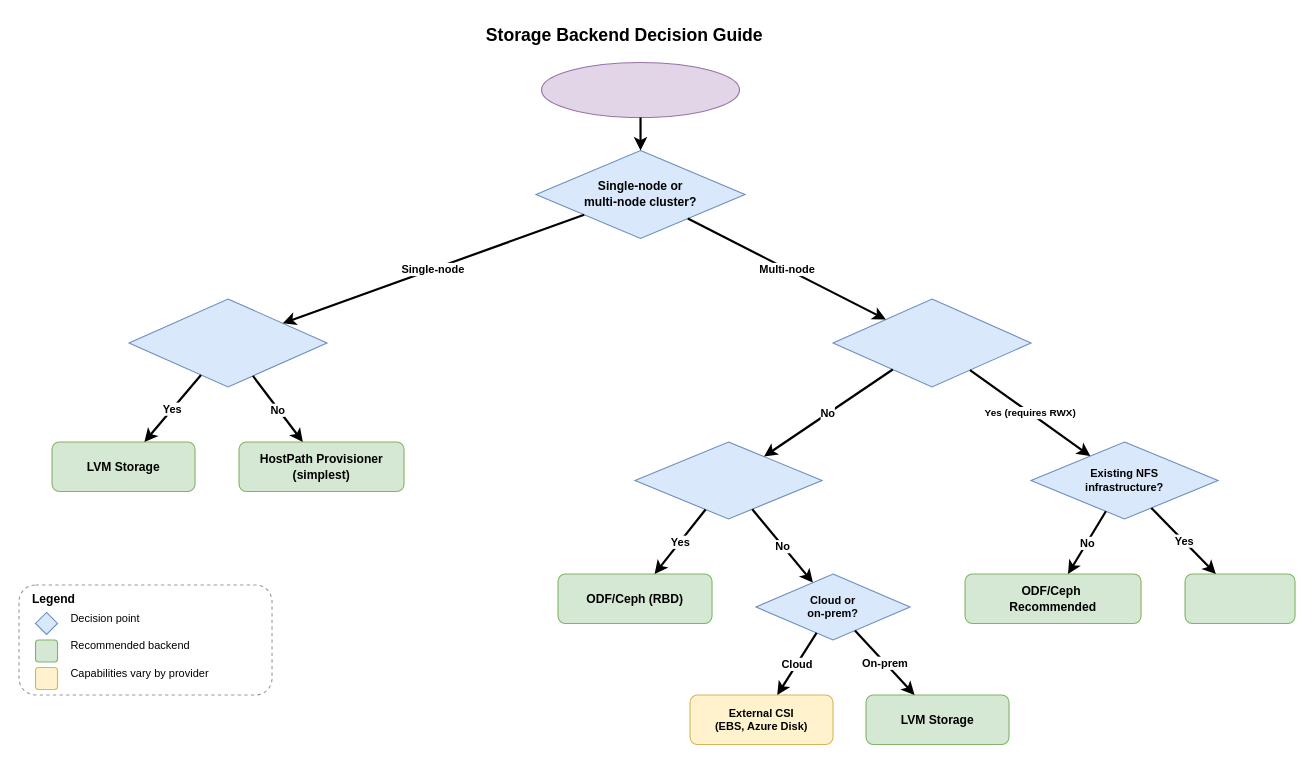
Some shapes in this 1315 by 765 pixel diagram are drawn without their labels. The centre of each missing label's shape, as x and y in pixels:
"Choose a storage backend" belongs at (x=640, y=89).
"Need distributed or HA storage?" belongs at (x=728, y=480).
"Need live migration?" belongs at (x=931, y=342).
"Need snapshots or thin provisioning?" belongs at (x=227, y=342).
"NFS" belongs at (x=1239, y=598).
